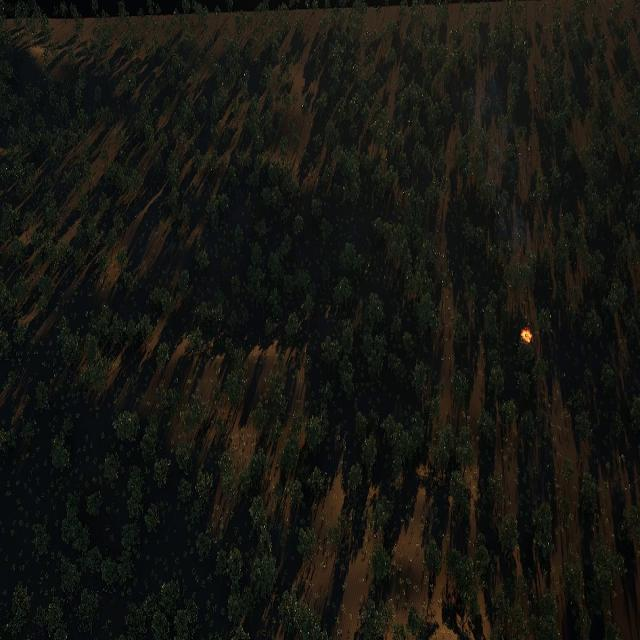fire: (522, 328, 532, 342)
